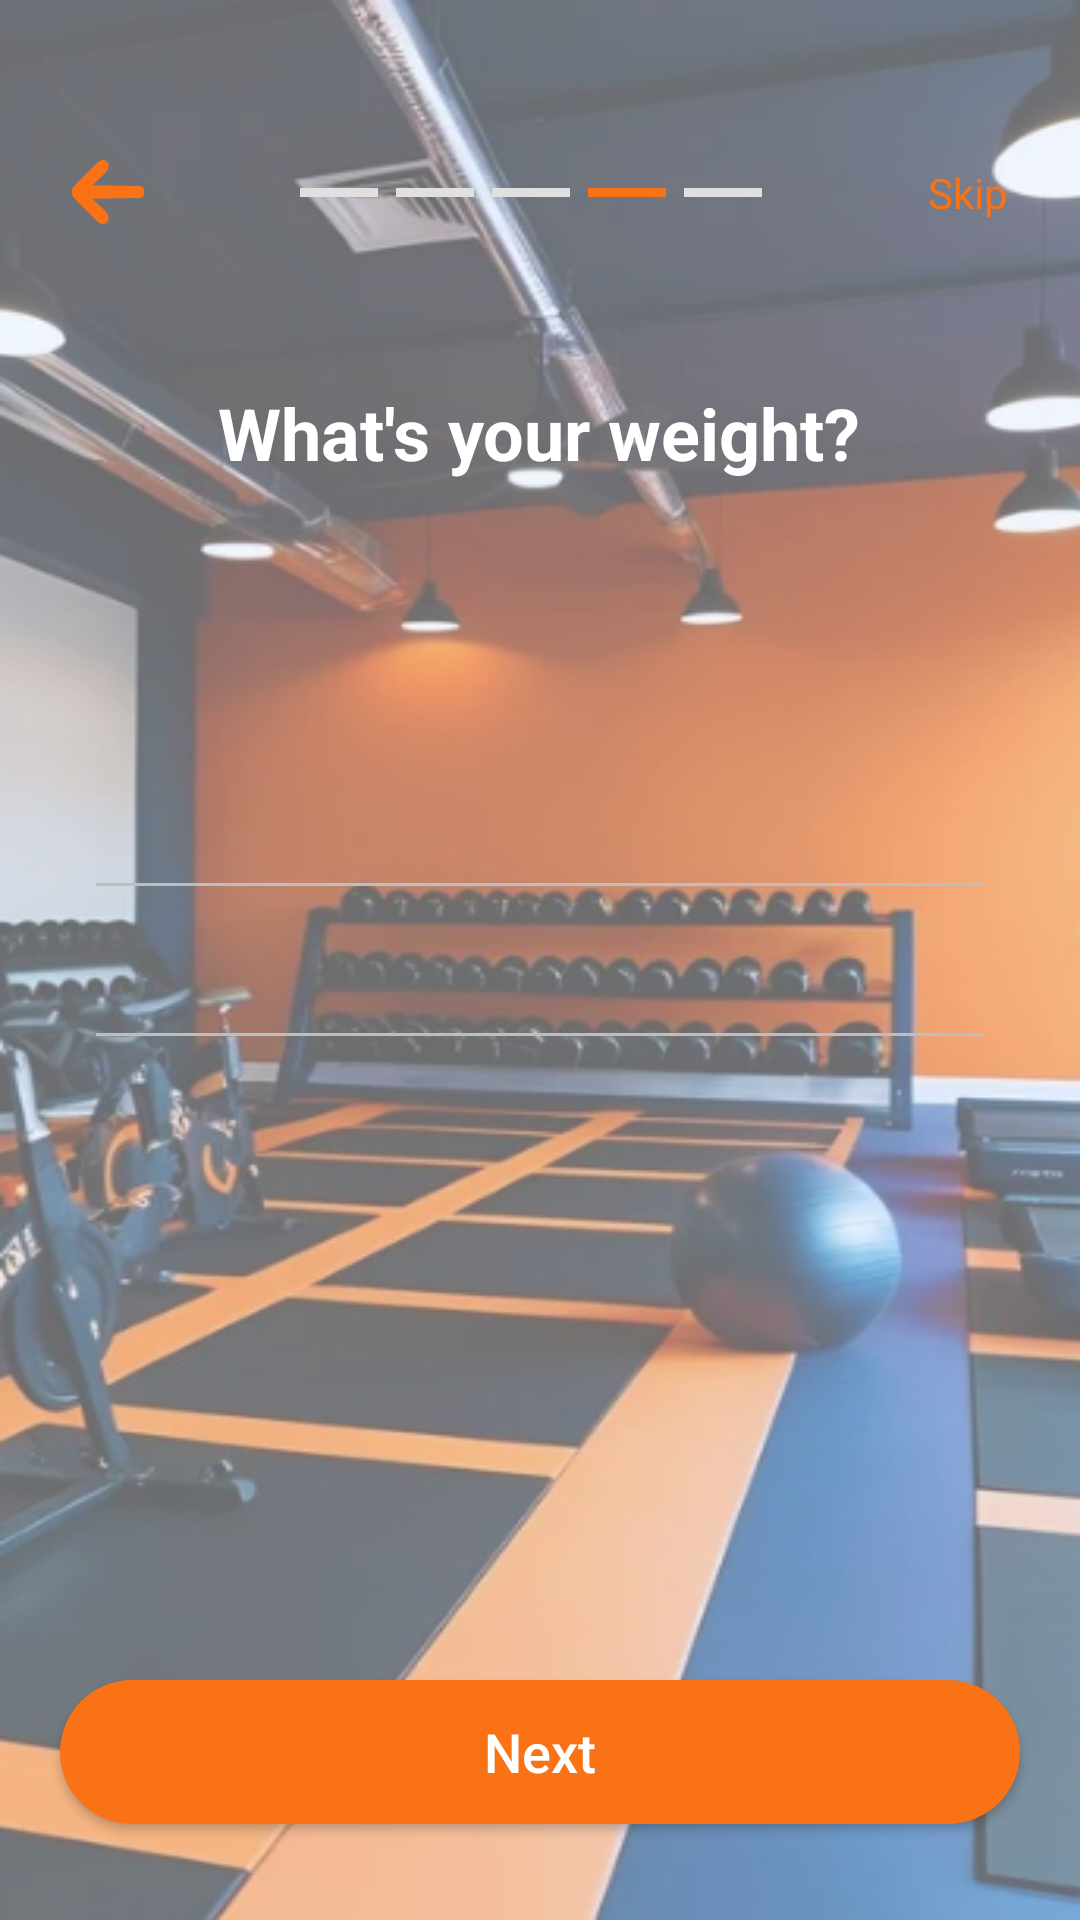

Icons on this 1080px x 1920px Android screen, each with the point to tap as point (x, y):
Back: point (108, 192)
